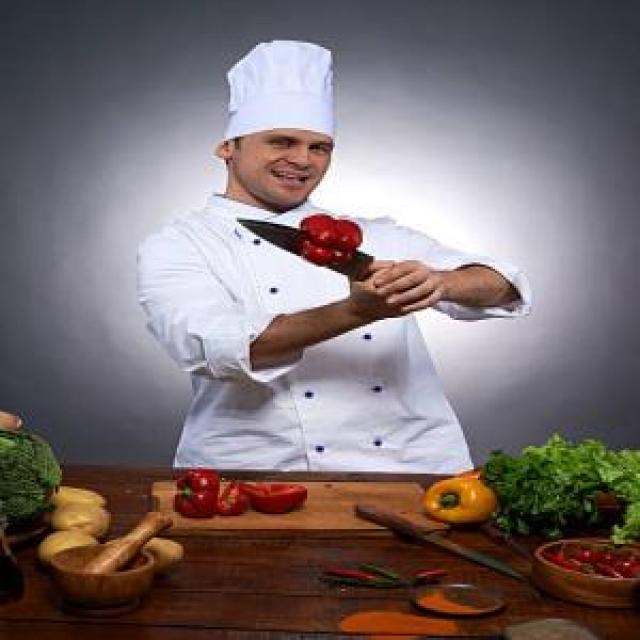knife: (228, 216, 449, 310)
